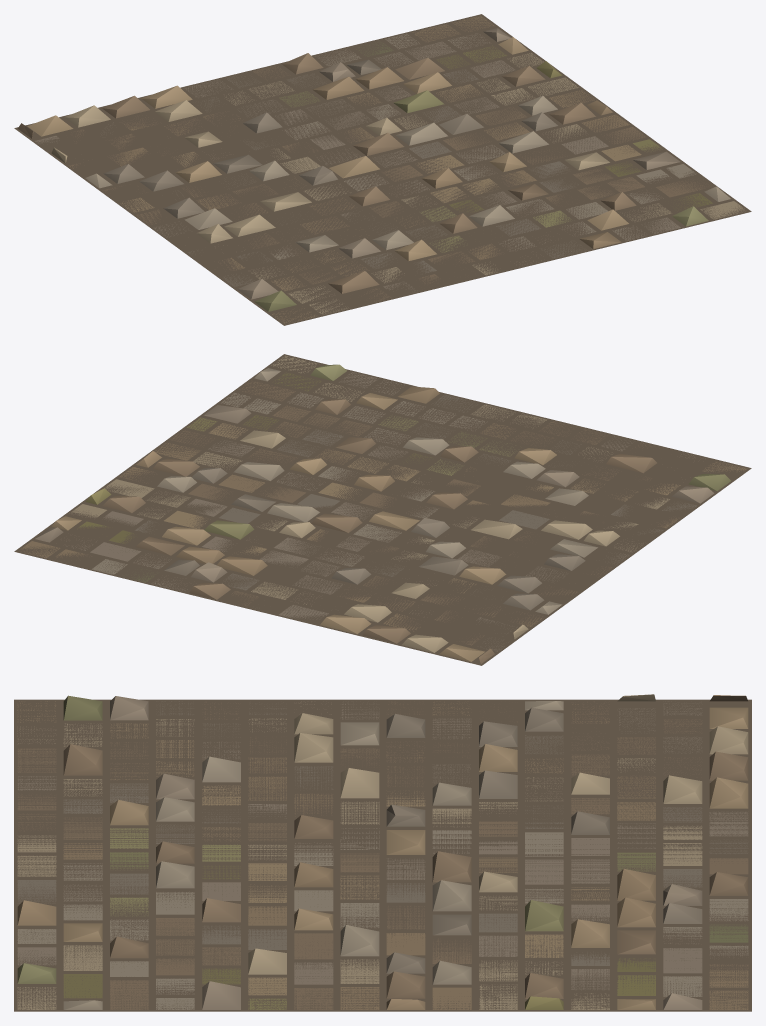
The model's file is town_cobble_patch-lod1.glb.
3 renders of one model, top to bottom at view 1: azimuth 30°, elevation 25°; view 2: azimuth 150°, elevation 25°; view 3: azimuth 270°, elevation 25°, orthographic. The views are drawn at different scales.
Parts seen in each view (by area): view 1: town_cobble_patch; view 2: town_cobble_patch; view 3: town_cobble_patch.
Boxes of the visible parts, bbox=[...] form: town_cobble_patch: bbox=[14, 14, 751, 325]; town_cobble_patch: bbox=[14, 354, 751, 665]; town_cobble_patch: bbox=[14, 694, 751, 1011].
Bounding box in the file's own units: 8 × 0.1162 × 8.
